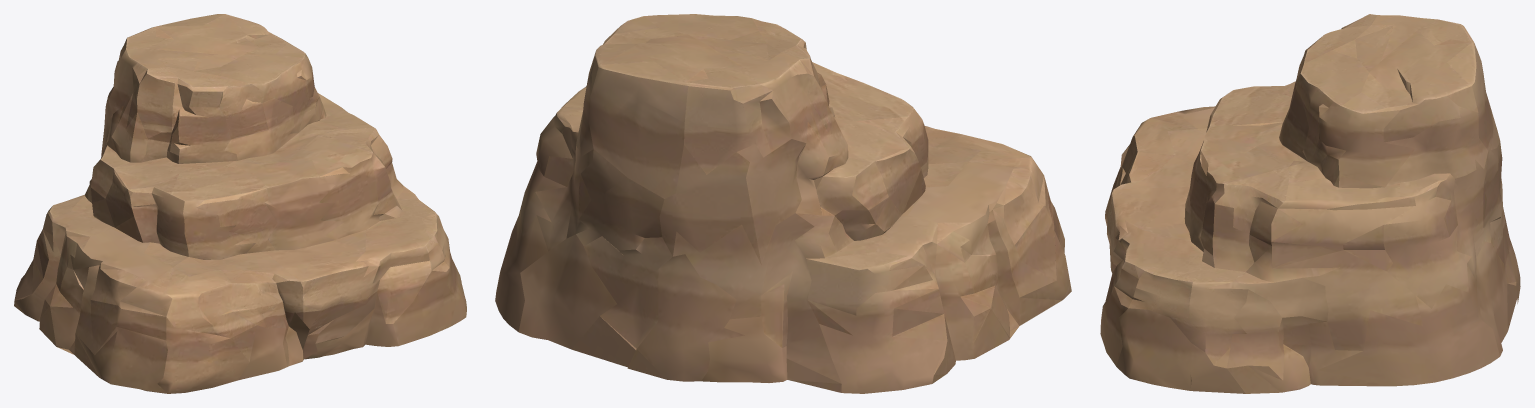
The model's file is rock-ledge.glb.
3 views of the same model, side by side, from view 1: azimuth 30°, elevation 25°; view 2: azimuth 150°, elevation 25°; view 3: azimuth 270°, elevation 25° (orthographic). The views are drawn at different scales.
Parts seen in each view (by area): view 1: rock-ledge-fit; view 2: rock-ledge-fit; view 3: rock-ledge-fit.
Part boxes in pixels (x1,y1,x2,y2): rock-ledge-fit: (14, 14, 466, 393); rock-ledge-fit: (495, 14, 1071, 393); rock-ledge-fit: (1100, 14, 1520, 393).
Bounding box in the file's own units: 2.8 × 1.6 × 2.45.
1 material, 1 textured.
